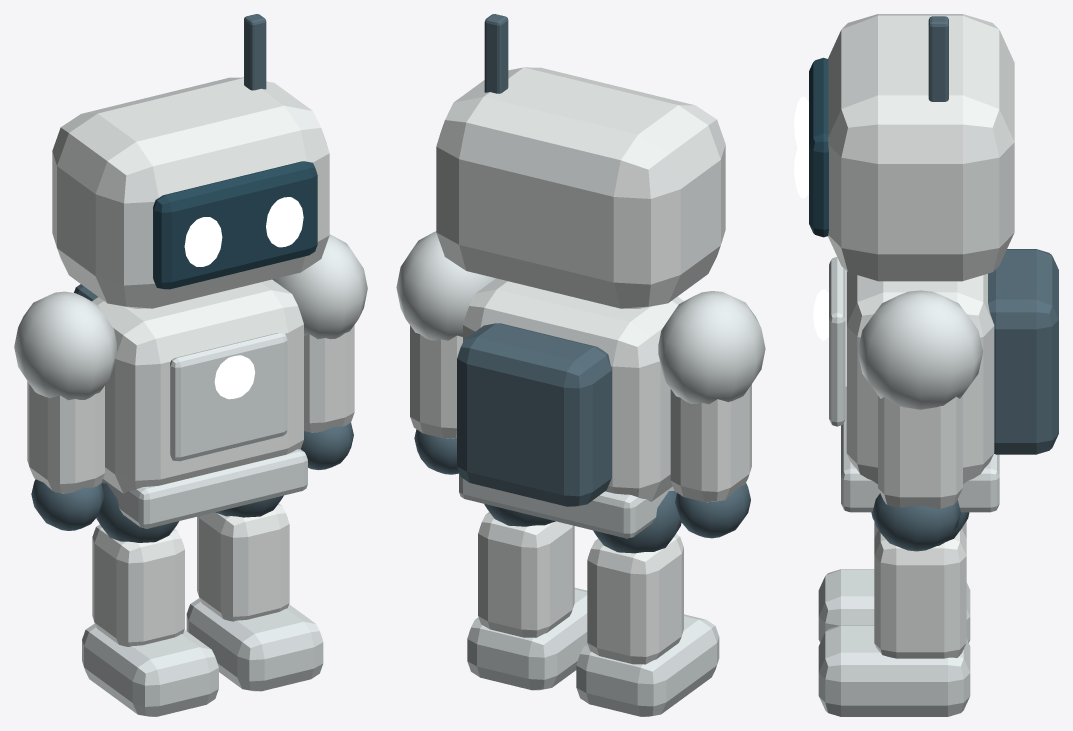
Rendered from onyx.glb.
The picture shows the model from 3 angles, left to right: view 1: azimuth 30°, elevation 25°; view 2: azimuth 150°, elevation 25°; view 3: azimuth 270°, elevation 25°; orthographic projection. The views are drawn at different scales.
Parts seen in each view (by area): view 1: Head, Torso, Visor, Chest plate, Leg.015, Leg, Boot.015, Shoulder.015, Boot, Belt, Arm.015, Shoulder (+9 smaller); view 2: Head, Pack, Torso, Leg.015, Leg, Shoulder.015, Boot.015, Arm.015, Boot, Shoulder, Belt, Arm (+5 smaller); view 3: Head, Pack, Shoulder, Torso, Boot, Leg, Arm, Boot.015, Visor, Belt, Hand, Chest plate (+4 smaller).
Boxes of the visible parts, left/top/right/bottom form: Head: left=52, top=77, right=329, bottom=308; Torso: left=92, top=279, right=303, bottom=493; Visor: left=153, top=161, right=317, bottom=289; Chest plate: left=170, top=333, right=287, bottom=461; Leg.015: left=92, top=524, right=184, bottom=646; Leg: left=197, top=503, right=289, bottom=621; Boot.015: left=82, top=623, right=218, bottom=716; Shoulder.015: left=14, top=291, right=116, bottom=400; Boot: left=186, top=598, right=323, bottom=691; Belt: left=101, top=449, right=307, bottom=528; Arm.015: left=27, top=381, right=104, bottom=493; Shoulder: left=272, top=234, right=367, bottom=339; Head: left=436, top=67, right=725, bottom=308; Pack: left=457, top=323, right=611, bottom=506; Torso: left=463, top=278, right=684, bottom=501; Leg.015: left=587, top=534, right=683, bottom=664; Leg: left=478, top=512, right=574, bottom=637; Shoulder.015: left=658, top=291, right=765, bottom=404; Boot.015: left=576, top=614, right=719, bottom=716; Arm.015: left=670, top=384, right=751, bottom=502; Boot: left=467, top=587, right=587, bottom=690; Shoulder: left=396, top=231, right=495, bottom=340; Belt: left=459, top=472, right=674, bottom=538; Arm: left=410, top=325, right=462, bottom=438; Head: left=827, top=14, right=1014, bottom=281; Pack: left=988, top=249, right=1058, bottom=454; Shoulder: left=857, top=290, right=982, bottom=409; Torso: left=846, top=271, right=994, bottom=483; Boot: left=818, top=625, right=970, bottom=716; Leg: left=874, top=528, right=966, bottom=658; Arm: left=878, top=395, right=962, bottom=508; Boot.015: left=818, top=569, right=970, bottom=642; Visor: left=809, top=57, right=828, bottom=237; Belt: left=841, top=386, right=999, bottom=512; Hand: left=872, top=493, right=960, bottom=551; Chest plate: left=829, top=257, right=845, bottom=426.
Size of the model in its own units: 1.16 by 2.08 by 0.717.
